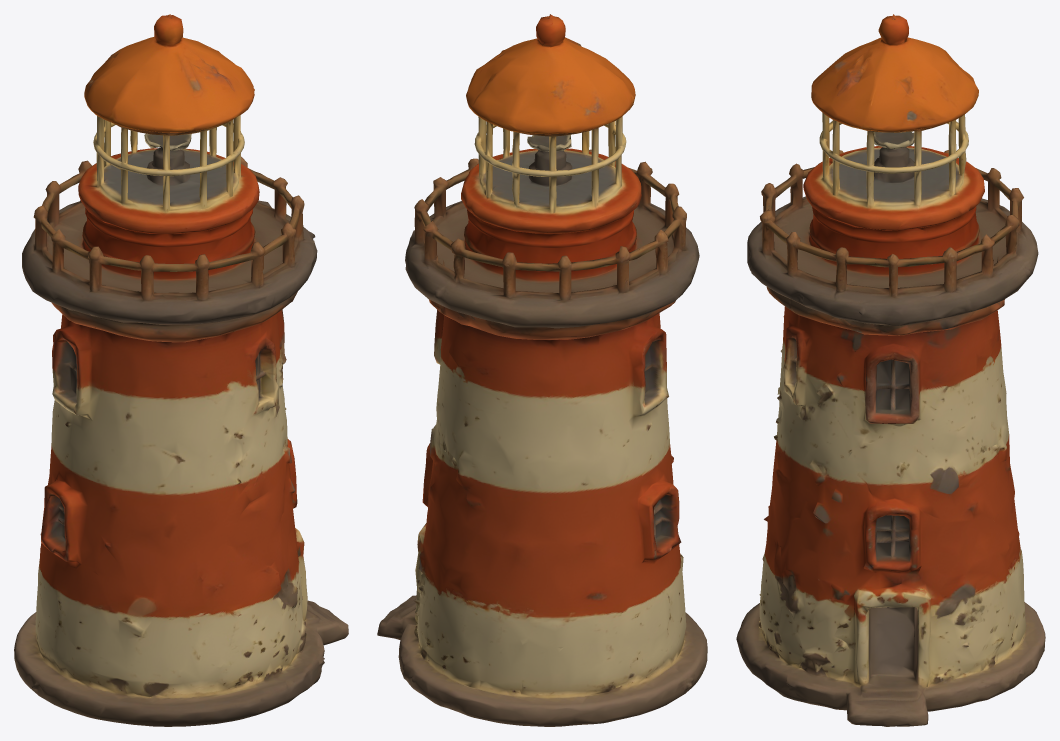
The model's file is lighthouse.glb.
3 views of the same model, side by side, from view 1: azimuth 30°, elevation 25°; view 2: azimuth 150°, elevation 25°; view 3: azimuth 270°, elevation 25° (orthographic).
Parts seen in each view (by area): view 1: tripo_node_f9aa616a-5df6-4c31-99ff-41feab1c9bff; view 2: tripo_node_f9aa616a-5df6-4c31-99ff-41feab1c9bff; view 3: tripo_node_f9aa616a-5df6-4c31-99ff-41feab1c9bff.
Boxes of the visible parts, x1,y1,x2,y2 form: tripo_node_f9aa616a-5df6-4c31-99ff-41feab1c9bff: [14, 14, 348, 726]; tripo_node_f9aa616a-5df6-4c31-99ff-41feab1c9bff: [377, 14, 707, 726]; tripo_node_f9aa616a-5df6-4c31-99ff-41feab1c9bff: [736, 14, 1045, 726].
Size of the model in its own units: 0.4832 by 1 by 0.4384.
Materials: 1 (1 with a texture image).
